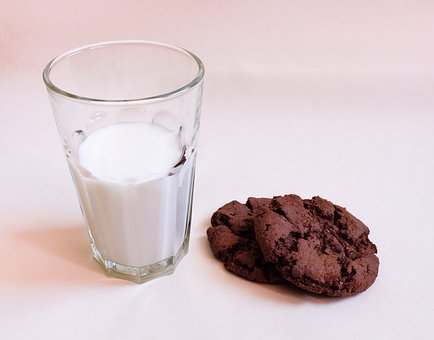glass of milk: (88, 90, 171, 269)
